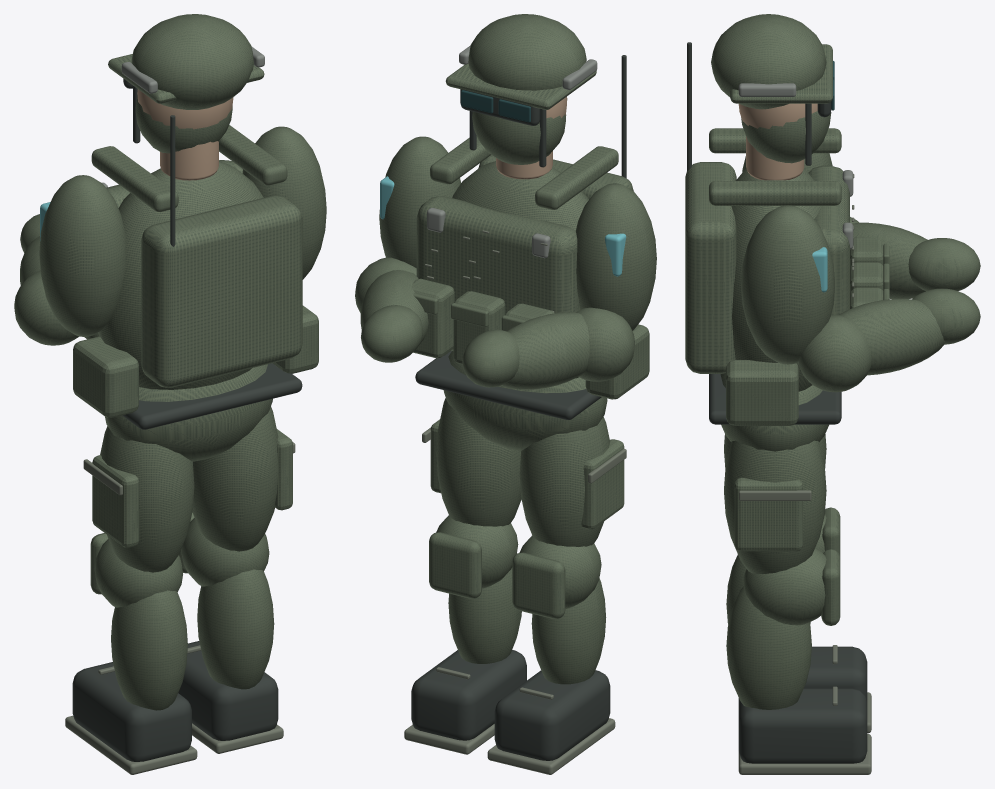
Rendered from soldier_0.glb.
The picture shows the model from 3 angles, left to right: view 1: azimuth 30°, elevation 25°; view 2: azimuth 150°, elevation 25°; view 3: azimuth 270°, elevation 25°; orthographic projection. The views are drawn at different scales.
Parts seen in each view (by area): view 1: Plate carrier, Uniform torso, Trouser thigh, Trouser thigh.001, Trouser calf.001, Trouser calf, Boot, Boot.001, Duty belt, Neck, Sole, Sole.001 (+1 smaller); view 2: Uniform torso, Plate carrier, Trouser thigh, Trouser thigh.001, Boot, Boot.001, Duty belt, Trouser calf, Trouser calf.001, Kneepad, Kneepad.001, Sole (+5 smaller); view 3: Plate carrier, Uniform torso, Trouser thigh.001, Boot.001, Trouser calf.001, Duty belt, Neck, Boot, Sole.001, Kneepad.001, Buckle, Pocket flap.001 (+2 smaller).
Part boxes in pixels (box(x1,y1,x2,y2)): Plate carrier: box(14, 14, 302, 387); Uniform torso: box(20, 96, 326, 461); Trouser thigh: box(92, 426, 194, 607); Trouser thigh.001: box(181, 407, 292, 586); Trouser calf.001: box(197, 569, 274, 689); Trouser calf: box(111, 590, 187, 710); Boot: box(72, 662, 191, 761); Boot.001: box(178, 641, 278, 740); Duty belt: box(122, 78, 302, 429); Neck: box(137, 89, 233, 180); Sole: box(65, 666, 197, 774); Sole.001: box(187, 645, 283, 753); Uniform torso: box(360, 111, 656, 450); Plate carrier: box(355, 14, 634, 387); Trouser thigh: box(519, 417, 624, 608); Trouser thigh.001: box(430, 398, 521, 588); Boot: box(494, 670, 610, 760); Boot.001: box(411, 650, 526, 740); Duty belt: box(415, 55, 626, 419); Trouser calf: box(531, 578, 606, 684); Trouser calf.001: box(448, 567, 521, 663); Kneepad: box(512, 552, 565, 618); Kneepad.001: box(429, 532, 481, 598); Sole: box(487, 687, 615, 774); Plate carrier: box(685, 14, 980, 392); Uniform torso: box(720, 111, 945, 451); Trouser thigh.001: box(724, 440, 826, 625); Boot.001: box(738, 688, 867, 763); Trouser calf.001: box(726, 586, 811, 709); Duty belt: box(687, 42, 841, 424); Neck: box(738, 103, 817, 180); Boot: box(738, 646, 867, 702); Sole.001: box(738, 686, 871, 774); Kneepad.001: box(821, 549, 840, 625); Buckle: box(738, 83, 853, 249); Pocket flap.001: box(738, 490, 811, 500).
Bounding box in the file's own units: 0.748 × 1.85 × 0.69.
8 materials, 2 textured.
